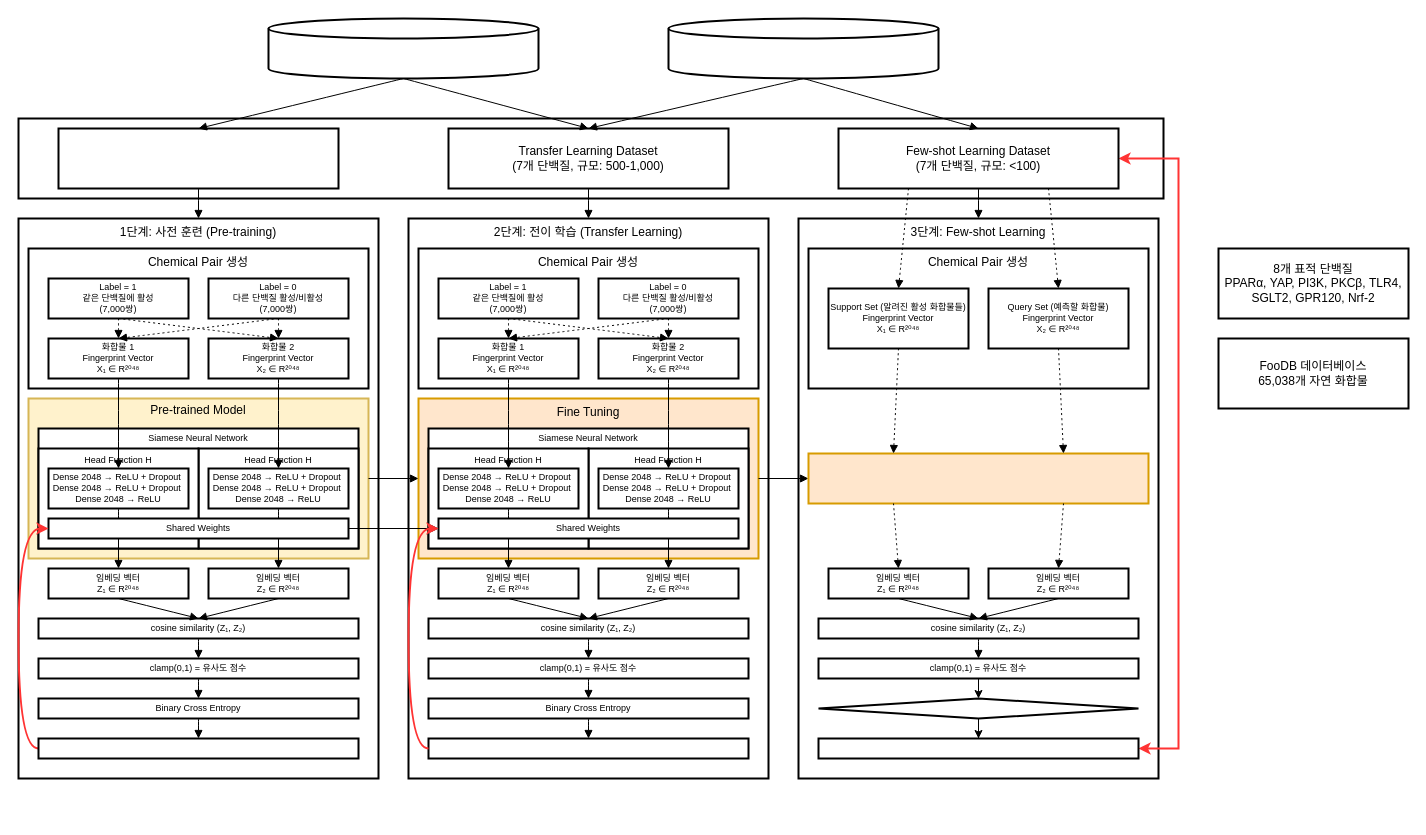
Image size: 1426x835. Some labels were removed from this diagram. The shapes that lost their labels are listed below. From the top down, each one's centre as x and y in pixels, then its label:
At (x=403, y=48): "ExCAPE-DB PubChem + ChEMBL".
At (x=803, y=48): "LIT-PCBA PubChem Bioassay".
At (x=198, y=158): "Base Dataset (11개 단백질, 규모: 5,000+)".
At (x=978, y=478): "Fine Tuned Model".
At (x=978, y=708): "단백질 별로 최대 유사도 점수 > 0.5".
At (x=198, y=748): "Epochs=500, Learning Rate=0.0001, Early Stopping=50".
At (x=588, y=748): "Epochs=100, Learning Rate=0.00001, Early Stopping=10".
At (x=978, y=748): "다중 타겟 예측".
